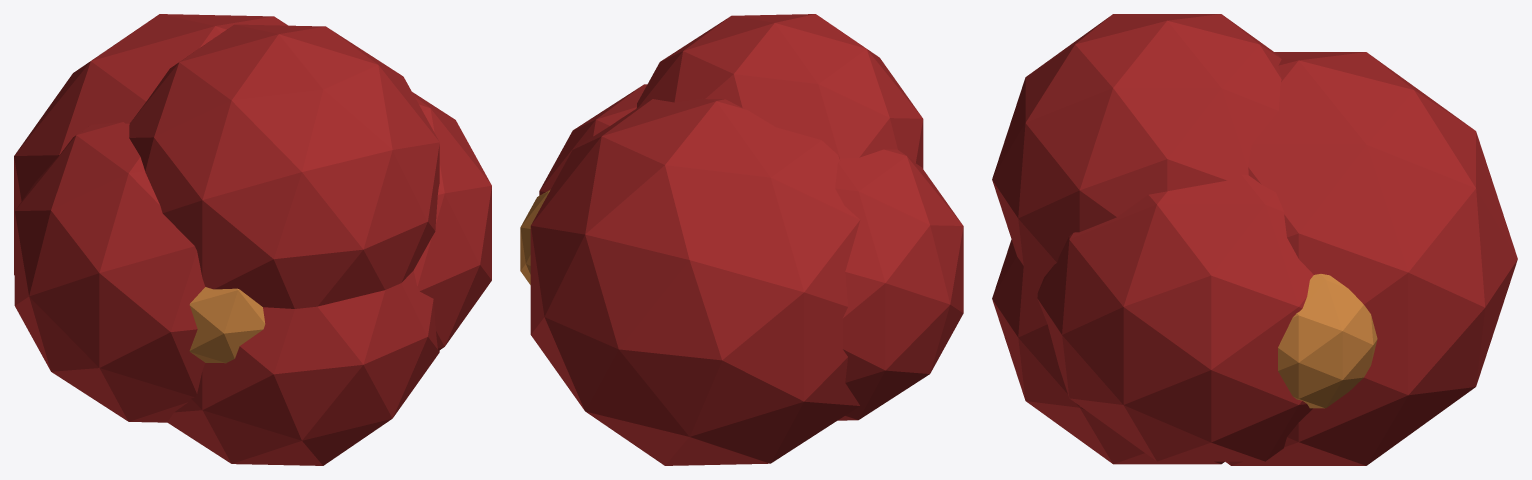
The model's file is nil_link_mesh.dae.
The picture shows the model from 3 angles, left to right: view 1: azimuth 30°, elevation 25°; view 2: azimuth 150°, elevation 25°; view 3: azimuth 270°, elevation 25°; orthographic projection. The views are drawn at different scales.
Parts seen in each view (by area): view 1: nil_link (×6); view 2: nil_link (×5); view 3: nil_link (×5).
Part boxes in pixels (x1,y1,x2,y2): nil_link (×6): (14, 14, 491, 465); nil_link (×5): (520, 14, 963, 465); nil_link (×5): (992, 14, 1517, 465).
Size of the model in its own units: 0.06 by 0.055 by 0.06.
